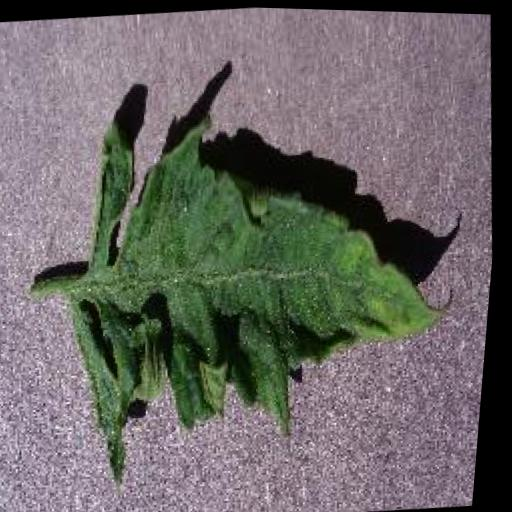Mosaic Virus: (49, 78, 484, 495)
